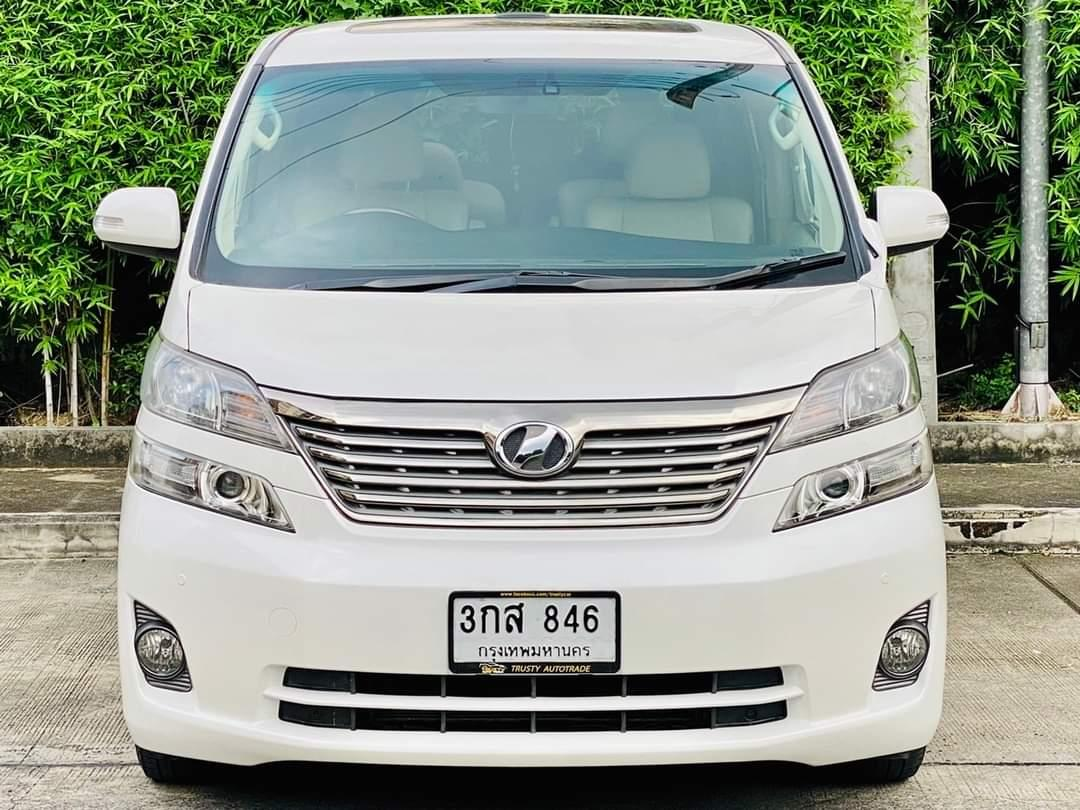license-plate: (446, 586, 626, 673)
